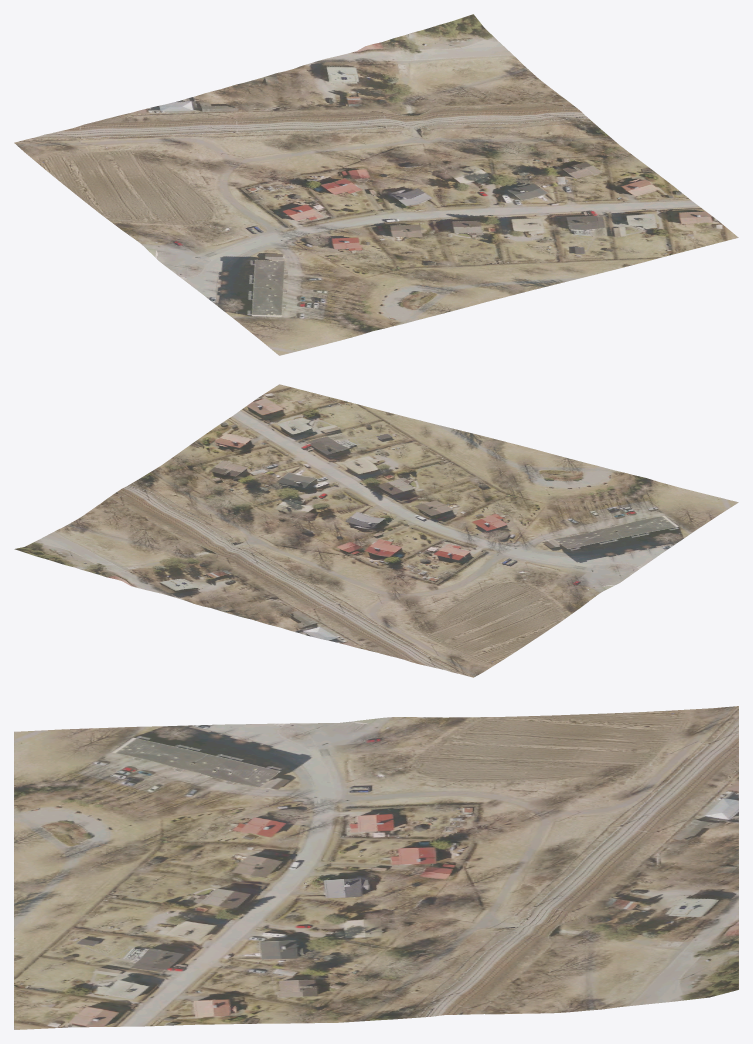
The model's file is CM_Terrain_24489434_6819999.fbx.
The picture shows the model from 3 angles, top to bottom: view 1: azimuth 30°, elevation 25°; view 2: azimuth 150°, elevation 25°; view 3: azimuth 270°, elevation 25°; orthographic projection. The views are drawn at different scales.
Parts seen in each view (by area): view 1: CM_Terrain_24489434_6819999_LOD0; view 2: CM_Terrain_24489434_6819999_LOD0; view 3: CM_Terrain_24489434_6819999_LOD0.
Part boxes in pixels (x1,y1,x2,y2): CM_Terrain_24489434_6819999_LOD0: (14,14,738,355); CM_Terrain_24489434_6819999_LOD0: (14,384,738,677); CM_Terrain_24489434_6819999_LOD0: (14,706,738,1029).
Size of what is drawn, in the model's own units: 205 by 15.06 by 205.
